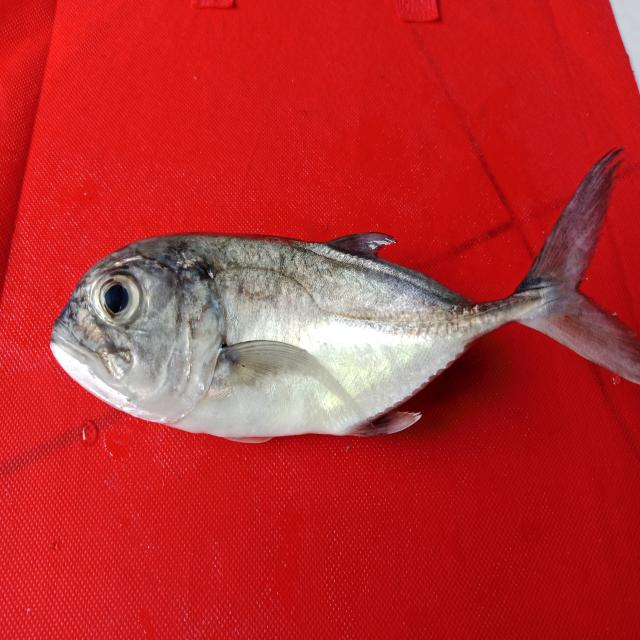ikan: (49, 145, 638, 441)
